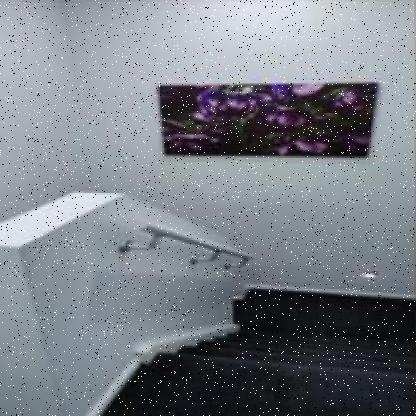stair_down: (142, 277, 375, 414)
